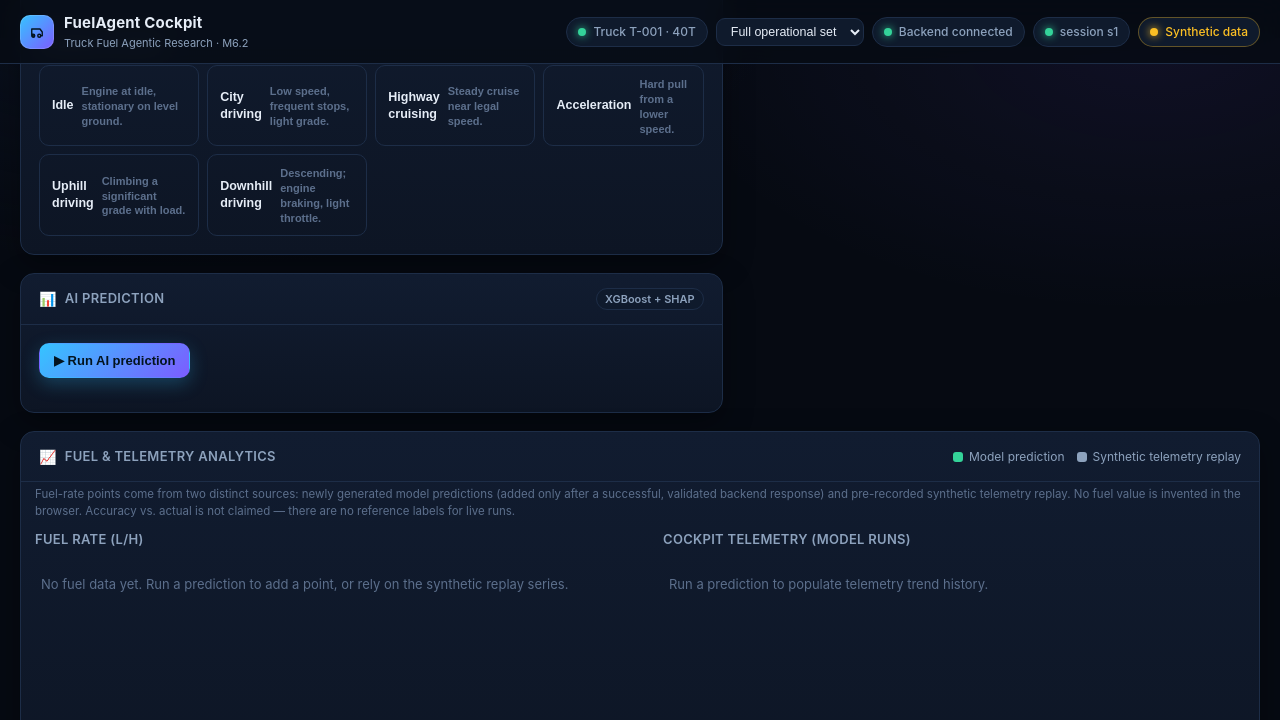
Test: App backend-unavailable / invalid-session failure paths › invalid session / backend error during predict surfaces the error, no history entry, no false success
(page scrolled)
Expected: the text "session s1" is shown, top-left (1033, 16), bottom-right (1130, 46)
Click the button "▶ Run AI prediction" at (115, 361), box top-left (39, 343), bottom-right (190, 378)
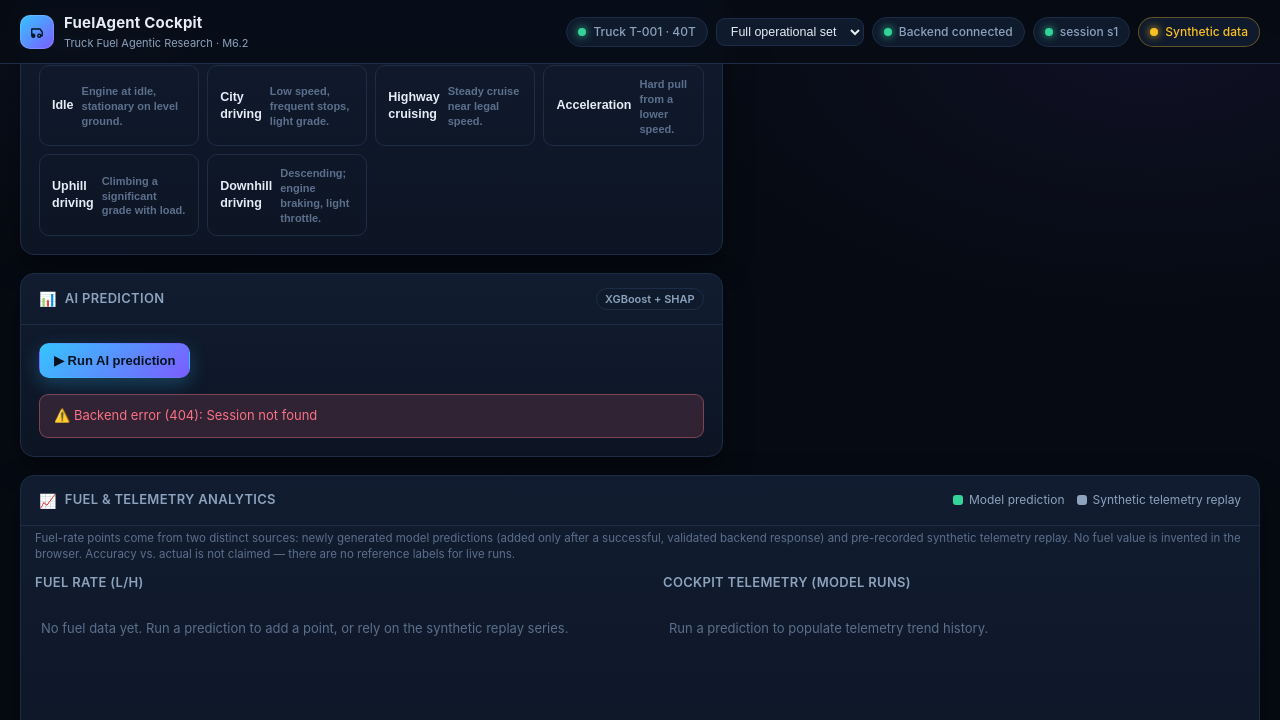
Now the text "⚠️ Backend error (404): Session not found" is shown, box top-left (39, 394), bottom-right (704, 438)
